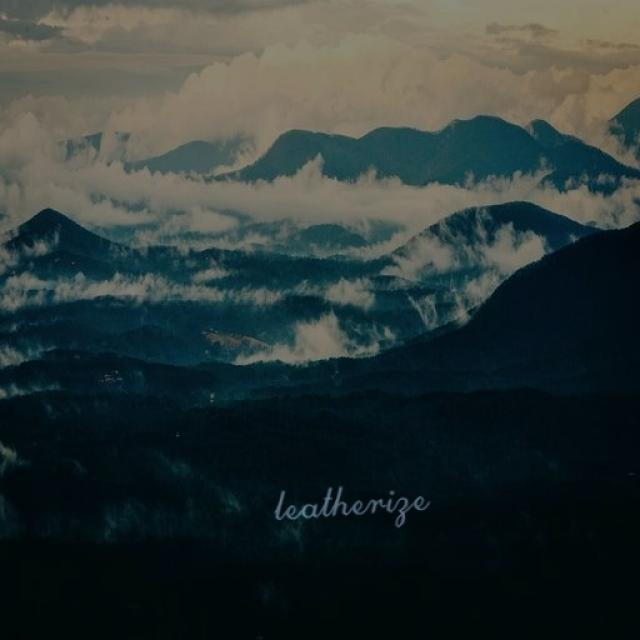watermark: (265, 478, 430, 526)
